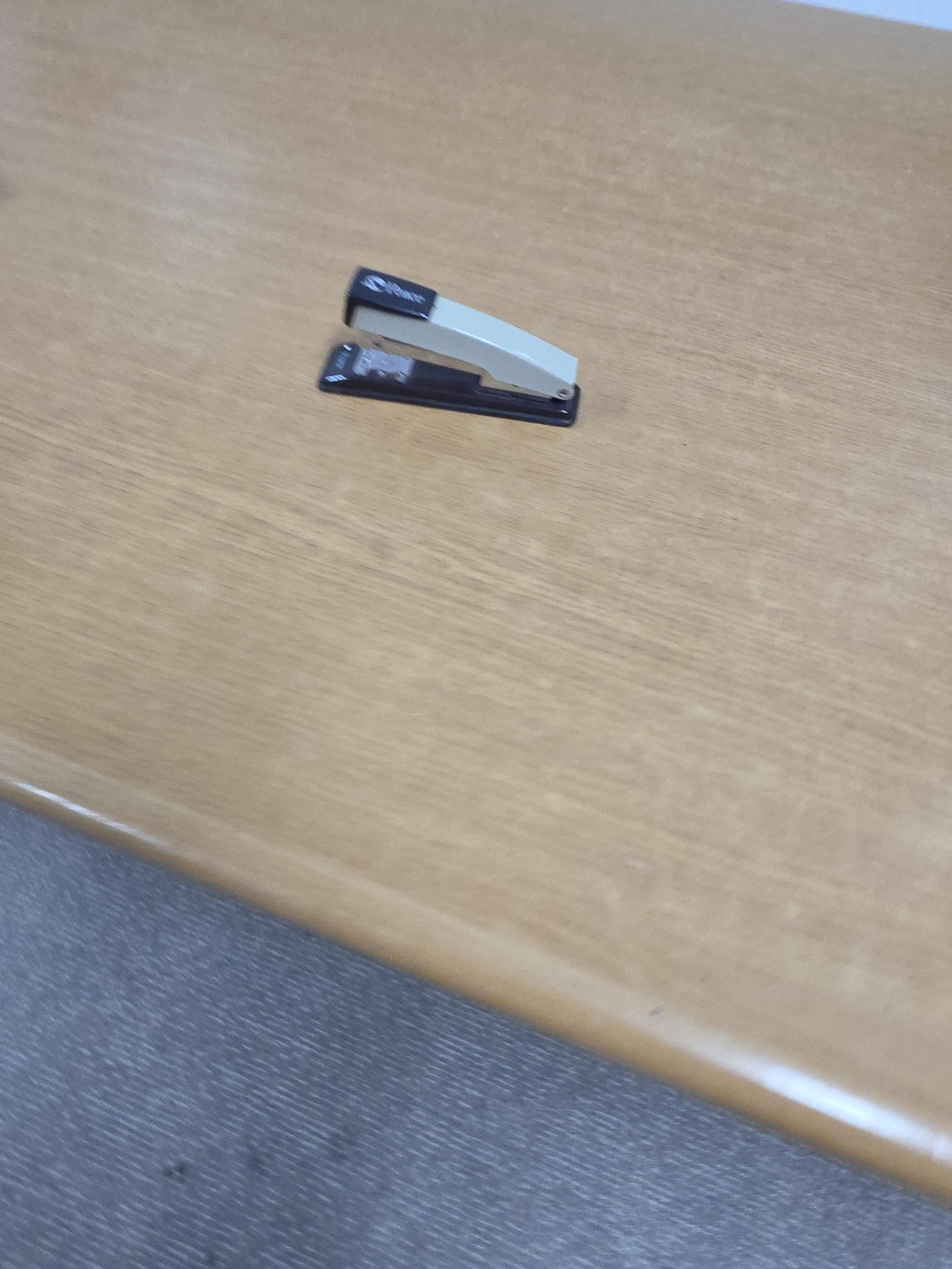stapler: (317, 264, 583, 429)
